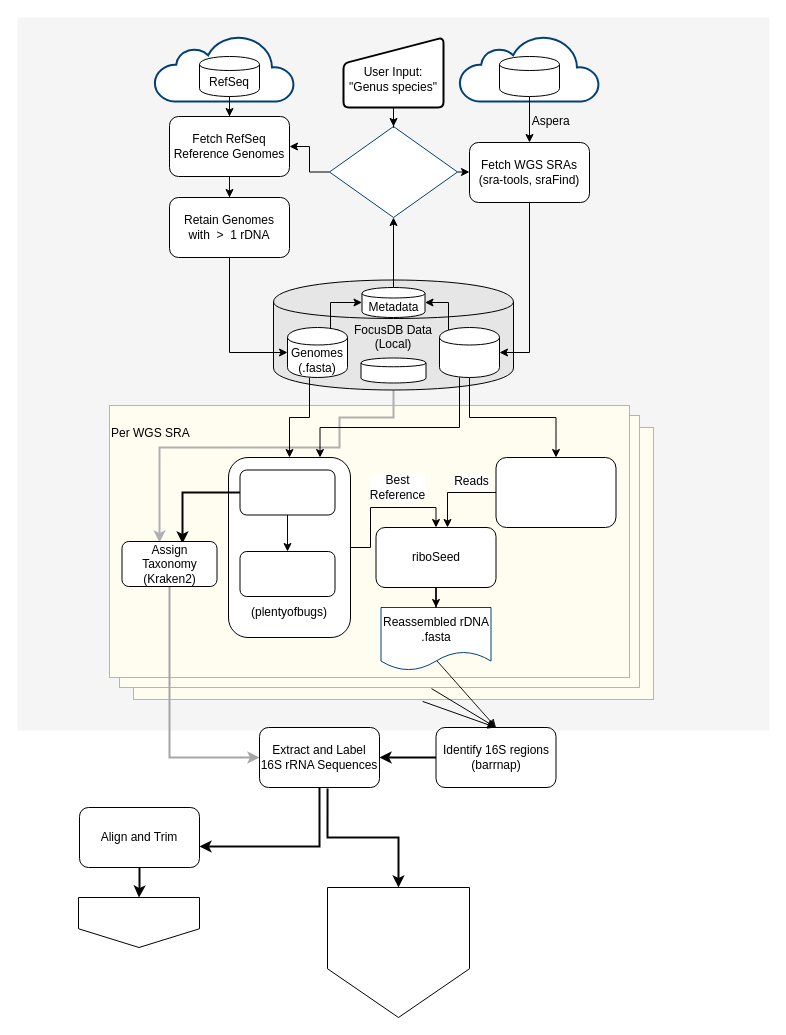
The diagram is 786 pixels wide and 1035 high, and some of its shapes have lost their labels. Each missing label, with the centre of its shape:
Build trees: the point at 139,922
Check if required data is present: the point at 393,172
Combine with SILVA/ Greengenes/RDP Use with DADA2, etc: the point at 398,952
Identify closest Reference (Mash): the point at 287,573
MiniKraken: the point at 393,370
Preliminary Assembly (SKESA): the point at 287,492
Quality Trim, Downsample if coverage > 50x (seqtk, sickle): the point at 555,492
SRA: the point at 529,76
SRAs (.fastq): the point at 469,352
